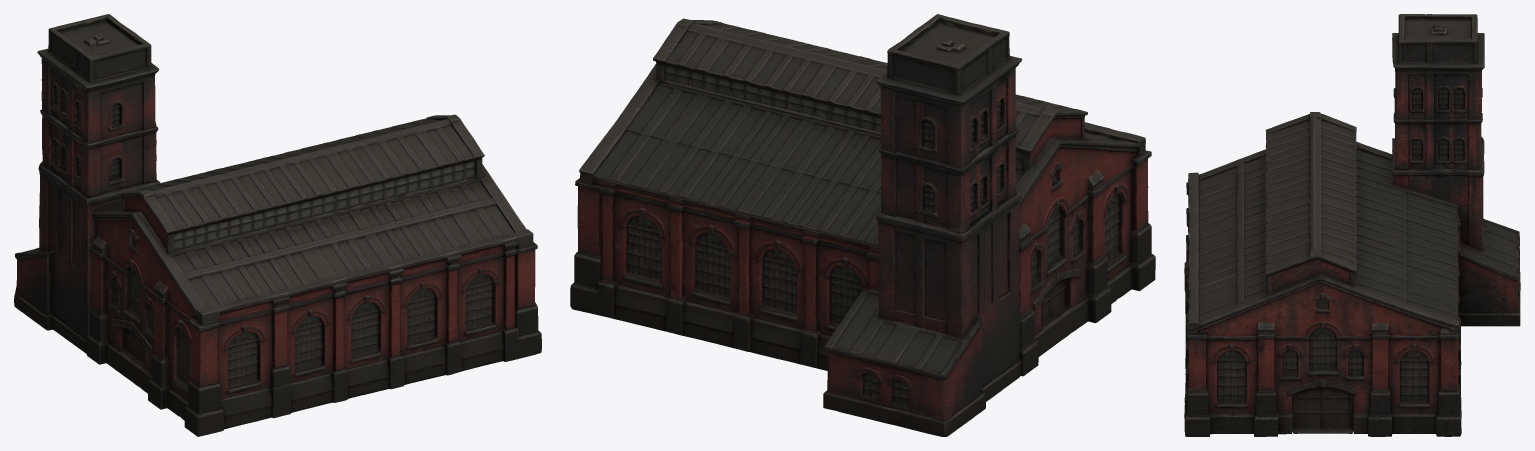
File: worksHall.glb
3 renders of one model, left to right at view 1: azimuth 30°, elevation 25°; view 2: azimuth 150°, elevation 25°; view 3: azimuth 270°, elevation 25°, orthographic. The views are drawn at different scales.
Parts seen in each view (by area): view 1: tripo_node_708d915e-d043-484e-bdcb-ddbe2cad713f; view 2: tripo_node_708d915e-d043-484e-bdcb-ddbe2cad713f; view 3: tripo_node_708d915e-d043-484e-bdcb-ddbe2cad713f.
Boxes of the visible parts, <box> form: tripo_node_708d915e-d043-484e-bdcb-ddbe2cad713f: <box>14,14,541,436</box>; tripo_node_708d915e-d043-484e-bdcb-ddbe2cad713f: <box>570,14,1155,436</box>; tripo_node_708d915e-d043-484e-bdcb-ddbe2cad713f: <box>1184,14,1520,436</box>.
Size of the model in its own units: 1 by 0.7992 by 0.8988.
1 material, 1 textured.
